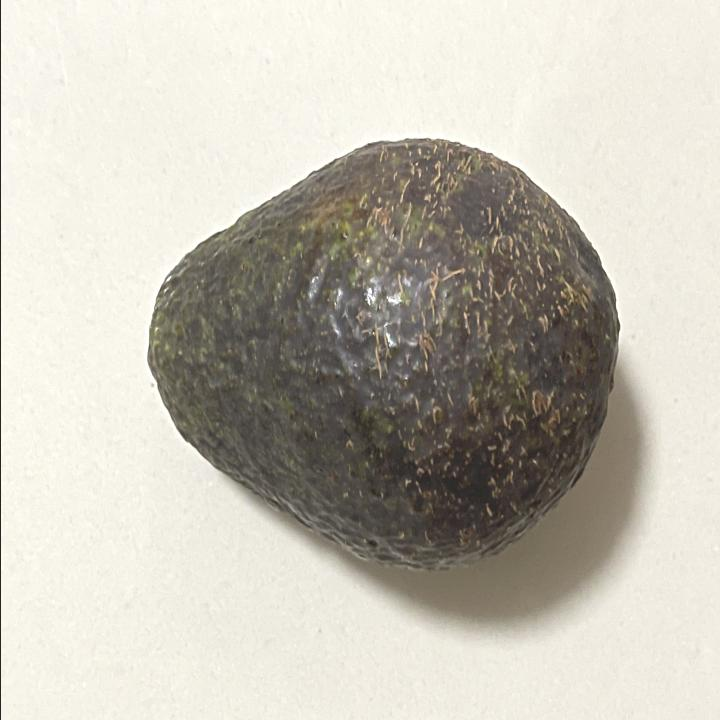Level1: (131, 112, 632, 584)
